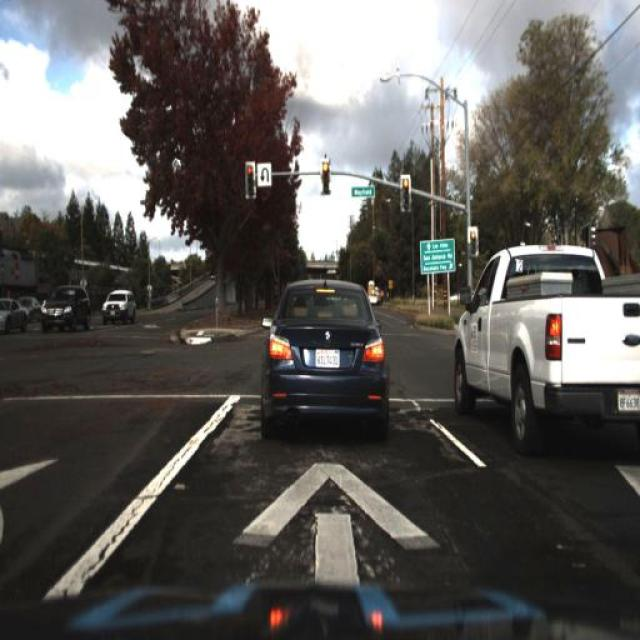car: (447, 244, 639, 443), (260, 275, 391, 437), (38, 284, 92, 334), (98, 286, 140, 326), (0, 298, 29, 338), (0, 294, 26, 334)
trafficLight-RedLeft: (467, 222, 482, 267), (318, 156, 332, 196), (401, 172, 413, 212), (468, 227, 478, 259)
trafficLight-Yellow: (243, 158, 258, 210), (243, 160, 254, 200)
